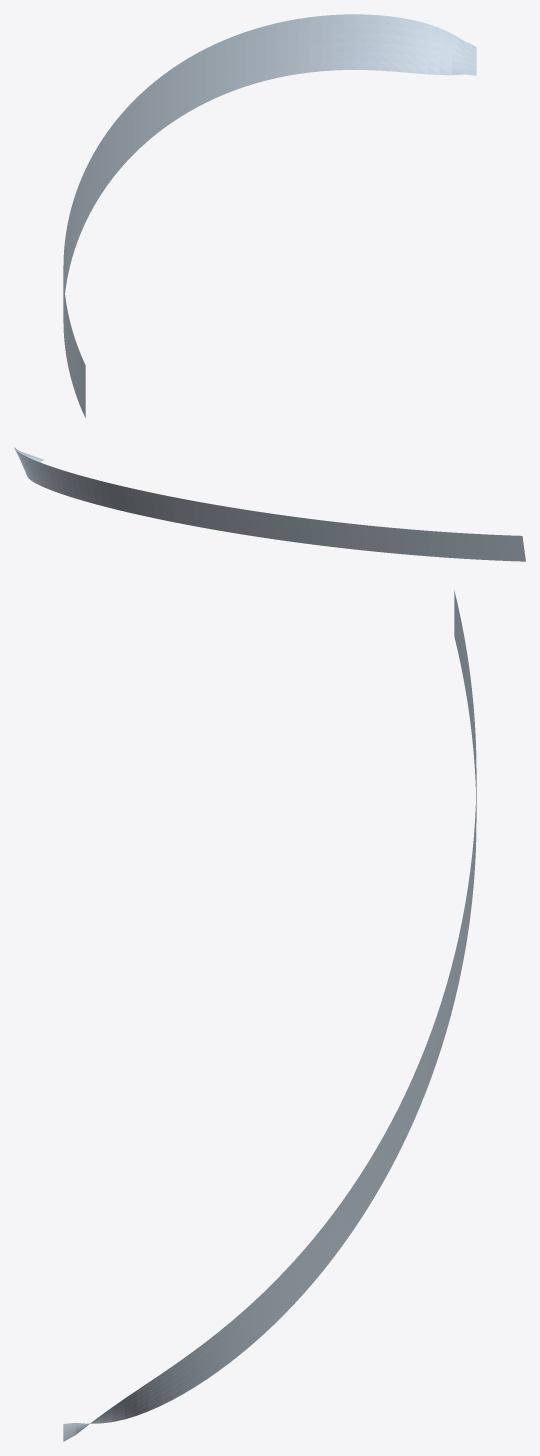
File: Sucrose_LargeWindSpiritState_ConversionMidLoop_SelfWindRibbon5.fbx
The picture shows the model from 3 angles, top to bottom: view 1: azimuth 90°, elevation 25°; view 2: azimuth 150°, elevation 25°; view 3: azimuth 270°, elevation 25°; orthographic projection. The views are drawn at different scales.
Visible parts, largest first — view 1: PART_SelfWindRibbon_5; view 2: PART_SelfWindRibbon_5; view 3: PART_SelfWindRibbon_5.
Boxes of the visible parts, x1=… form: PART_SelfWindRibbon_5: x1=63, y1=14, x2=476, y2=417; PART_SelfWindRibbon_5: x1=14, y1=447, x2=525, y2=561; PART_SelfWindRibbon_5: x1=63, y1=591, x2=476, y2=1441.
Bounding box in the file's own units: 165 × 35.62 × 49.
